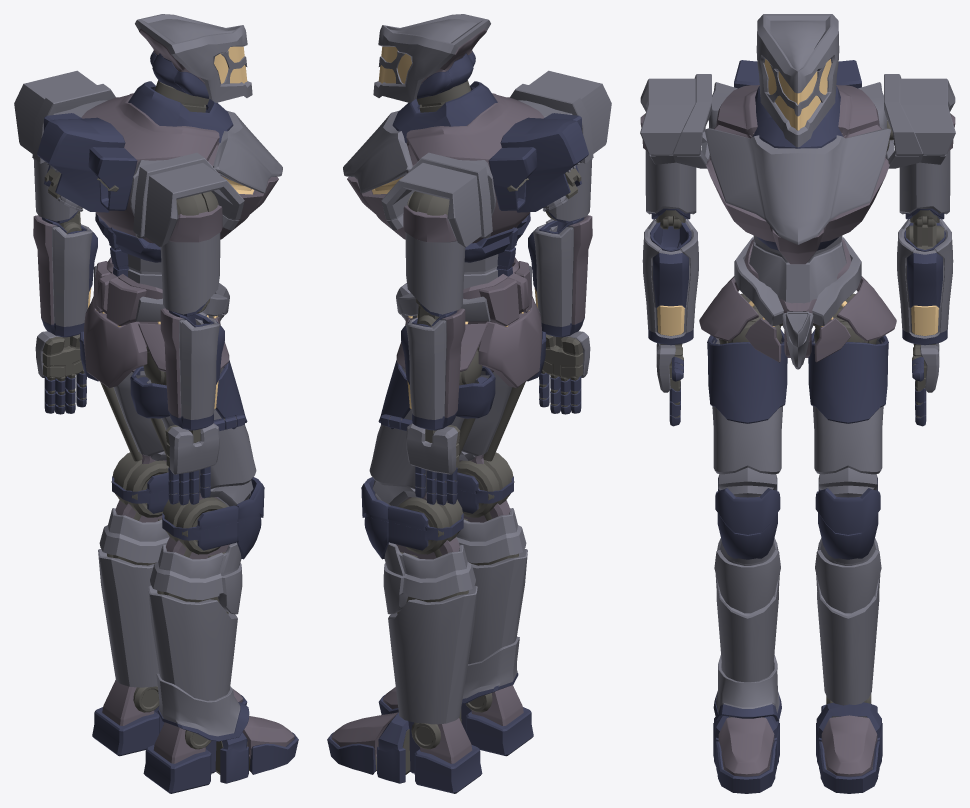
The model's file is Sementara.fbx.
3 renders of one model, left to right at view 1: azimuth 30°, elevation 25°; view 2: azimuth 150°, elevation 25°; view 3: azimuth 270°, elevation 25°, orthographic.
Parts seen in each view (by area): view 1: Plane.004; view 2: Plane.004; view 3: Plane.004.
Part boxes in pixels (x1,y1,x2,y2): Plane.004: (14,14,298,793); Plane.004: (327,14,611,793); Plane.004: (640,14,955,793).
Bounding box in the file's own units: 295 × 258 × 749.
